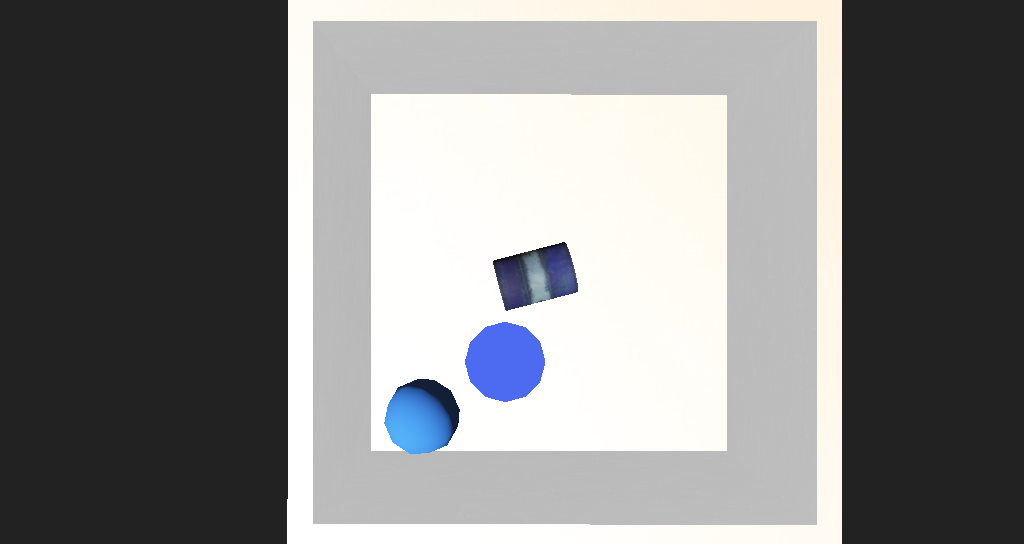cone: (455, 251, 529, 293)
cylinder: (431, 296, 499, 344)
sphere: (364, 329, 431, 377)
